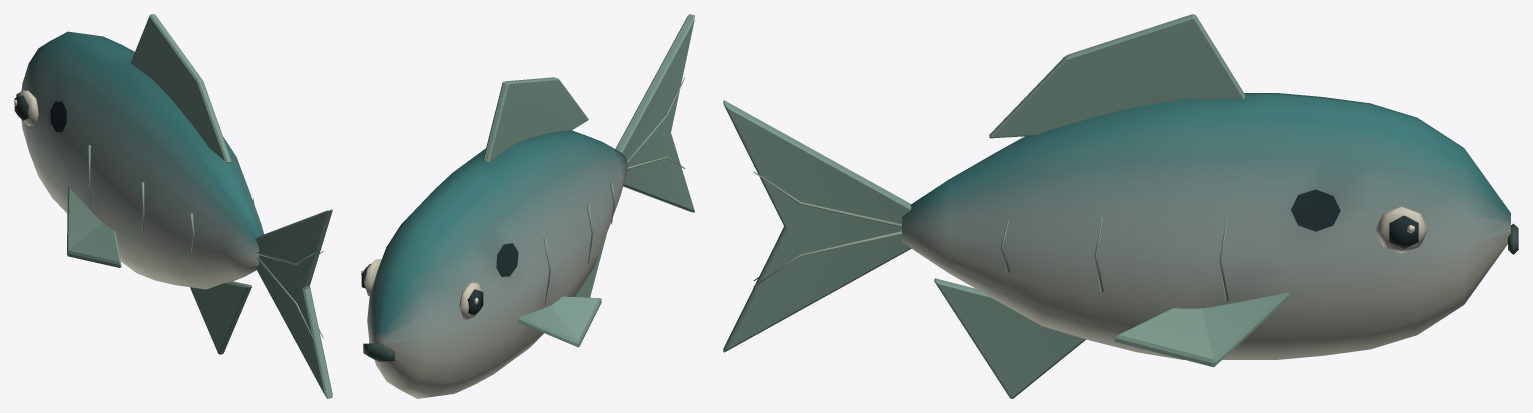
File: fish_gizzard_shad.glb
The picture shows the model from 3 angles, left to right: view 1: azimuth 30°, elevation 25°; view 2: azimuth 150°, elevation 25°; view 3: azimuth 270°, elevation 25°; orthographic projection. The views are drawn at different scales.
Size of the model in its own units: 0.0594 by 0.1061 by 0.1998.
